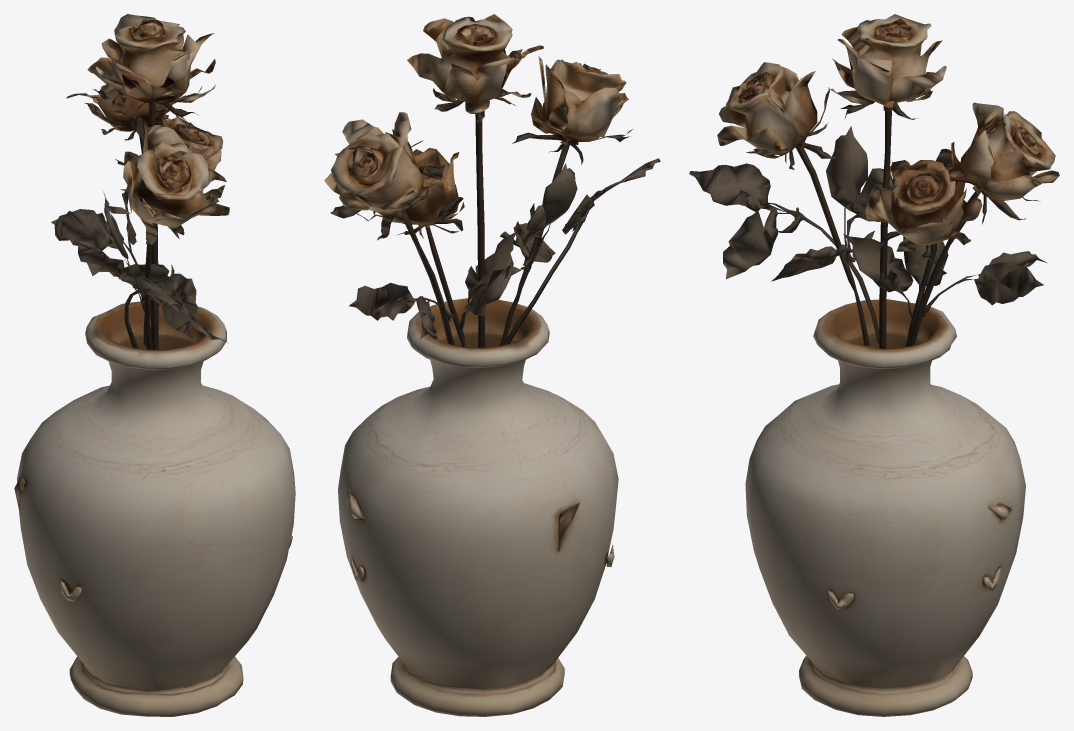
3 views of the same model, side by side, from view 1: azimuth 30°, elevation 25°; view 2: azimuth 150°, elevation 25°; view 3: azimuth 270°, elevation 25° (orthographic).
Visible parts, largest first — view 1: tripo_node_f80cd4db-8623-4cbc-8ffa-a79cce315c21; view 2: tripo_node_f80cd4db-8623-4cbc-8ffa-a79cce315c21; view 3: tripo_node_f80cd4db-8623-4cbc-8ffa-a79cce315c21.
Boxes of the visible parts, x1,y1,x2,y2 form: tripo_node_f80cd4db-8623-4cbc-8ffa-a79cce315c21: (14, 14, 295, 716); tripo_node_f80cd4db-8623-4cbc-8ffa-a79cce315c21: (324, 14, 660, 716); tripo_node_f80cd4db-8623-4cbc-8ffa-a79cce315c21: (689, 14, 1059, 716).
Size of the model in its own units: 0.3887 by 0.998 by 0.5137.
Materials: 1 (1 with a texture image).
